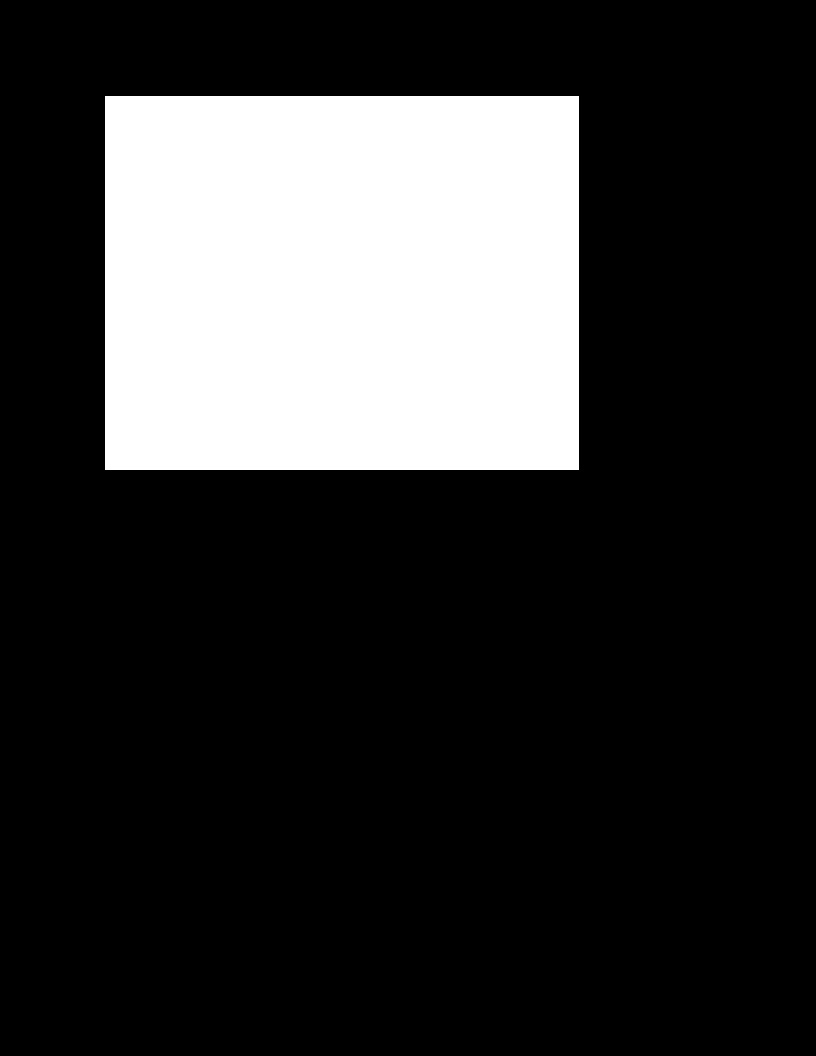table: (105, 96, 578, 469)
